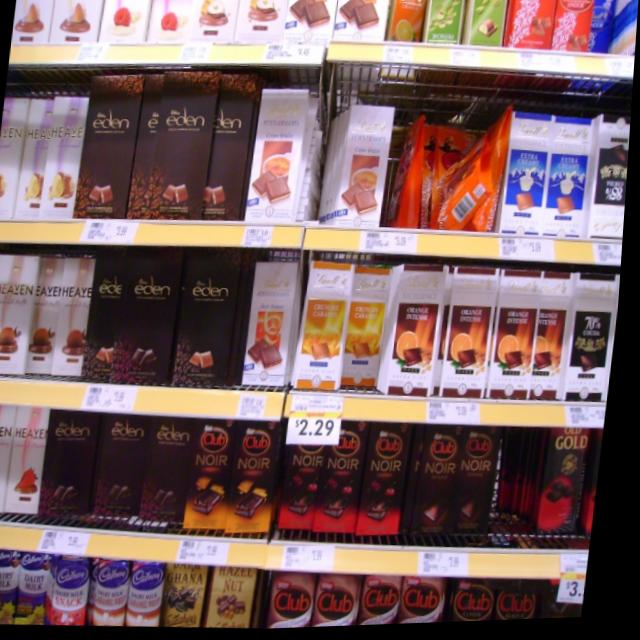q250: (15, 402, 62, 513), (0, 401, 24, 514)
